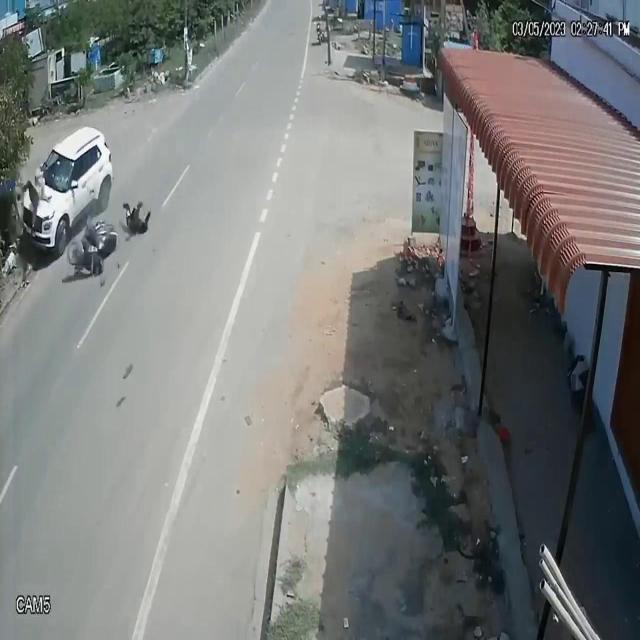accident: (16, 110, 155, 290)
